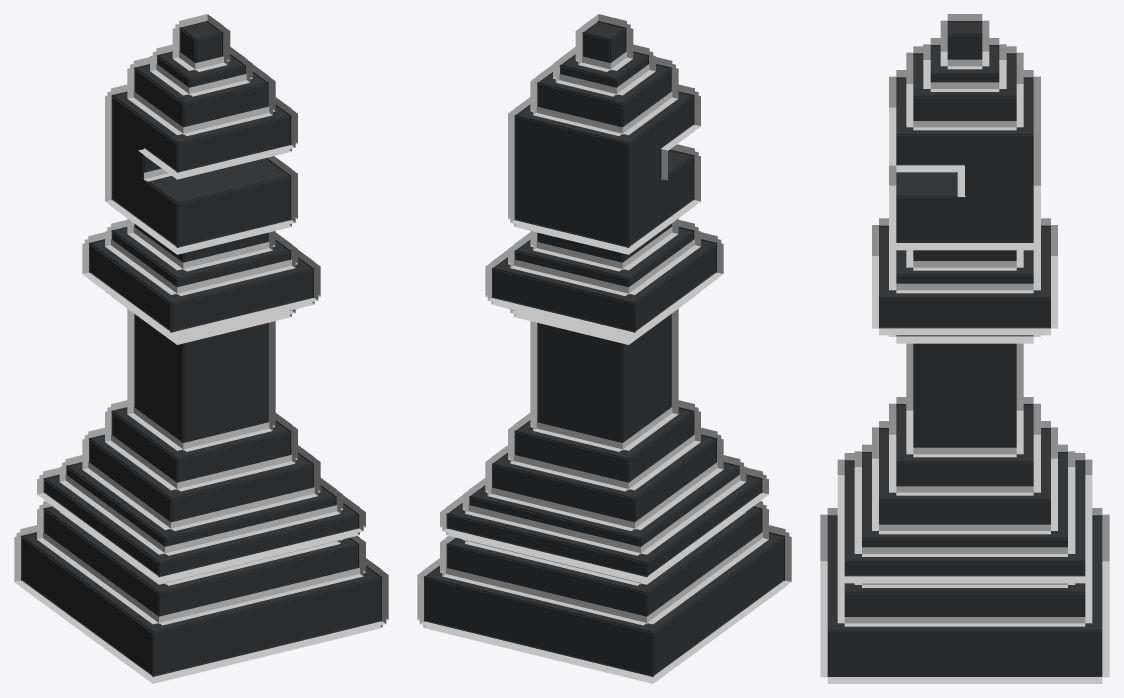
Rendered from black-bishop.glb.
The picture shows the model from 3 angles, left to right: view 1: azimuth 30°, elevation 25°; view 2: azimuth 150°, elevation 25°; view 3: azimuth 270°, elevation 25°; orthographic projection. The views are drawn at different scales.
Parts seen in each view (by area): view 1: chess-bishop-black_model; view 2: chess-bishop-black_model; view 3: chess-bishop-black_model.
Boxes of the visible parts, <box> form: chess-bishop-black_model: <box>14,14,388,683</box>; chess-bishop-black_model: <box>417,14,791,683</box>; chess-bishop-black_model: <box>820,14,1109,683</box>.
Bounding box in the file's own units: 1.68 × 3.88 × 1.68.
2 materials, 1 textured.
